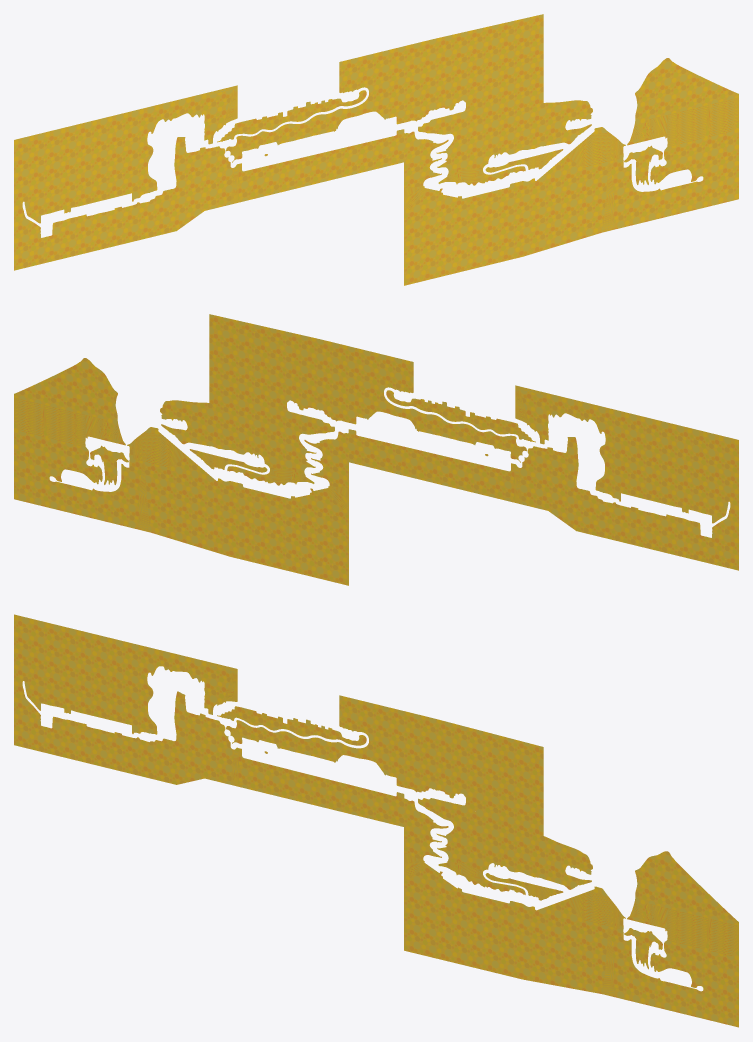
The model's file is iseki04.glb.
The picture shows the model from 3 angles, top to bottom: view 1: azimuth 30°, elevation 25°; view 2: azimuth 150°, elevation 25°; view 3: azimuth 330°, elevation 25°; orthographic projection.
Parts seen in each view (by area): view 1: iseki04; view 2: iseki04; view 3: iseki04.
Boxes of the visible parts, x1=… form: iseki04: x1=14, y1=14, x2=738, y2=285; iseki04: x1=14, y1=314, x2=738, y2=585; iseki04: x1=14, y1=614, x2=738, y2=1027.
Size of the model in its own units: 9257 by 2973 by 1.
1 material, 1 textured.
